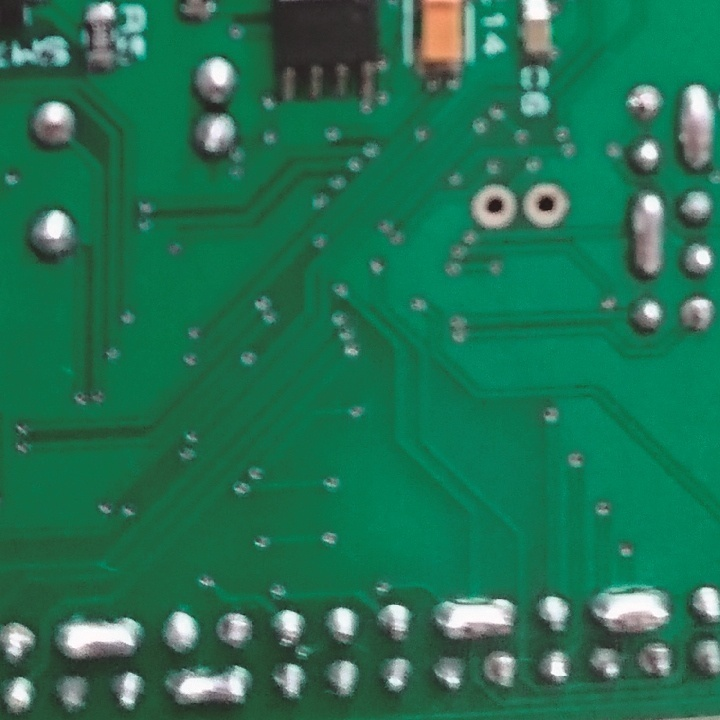F: (521, 180, 575, 230), (470, 180, 521, 228), (622, 81, 670, 127), (213, 609, 259, 650), (1, 618, 37, 669), (635, 640, 680, 680), (483, 650, 523, 692), (679, 294, 716, 335)
P: (47, 616, 148, 662), (587, 583, 670, 635), (433, 594, 516, 642), (674, 81, 716, 172), (166, 668, 256, 707), (629, 188, 668, 260)
